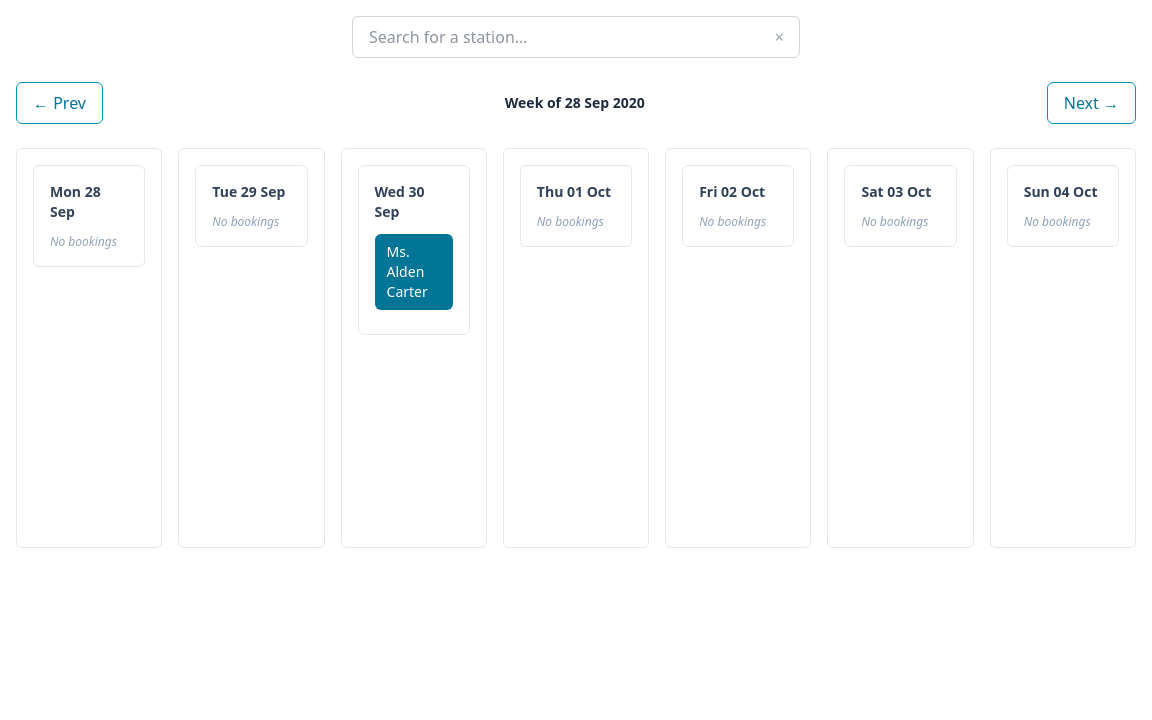
it: CalendarView.vue › navigates to next and previous weeks
This screenshot has width=1152, height=720.
Click the button "Next →". click: (1091, 103)
box: [1047, 82, 1136, 124]
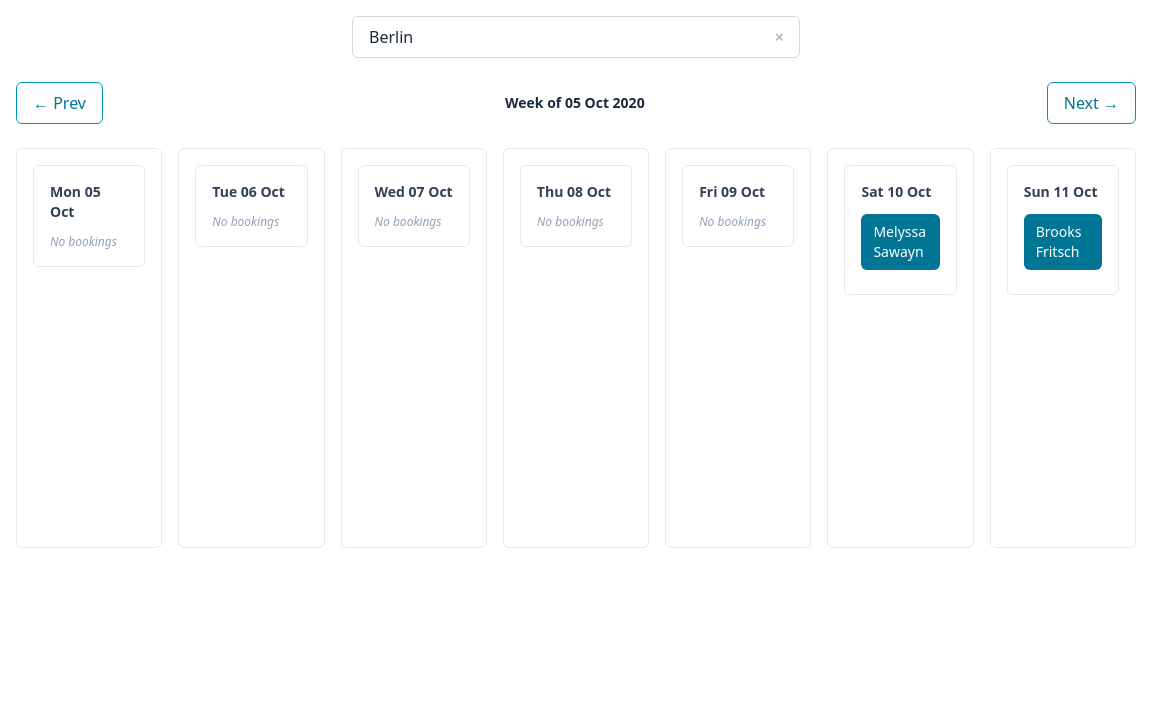
Expected: the text "Week of 05 Oct 2020" is shown, [505, 93, 645, 112]
Click the button "← Prev". click: (60, 103)
box: [16, 82, 103, 124]
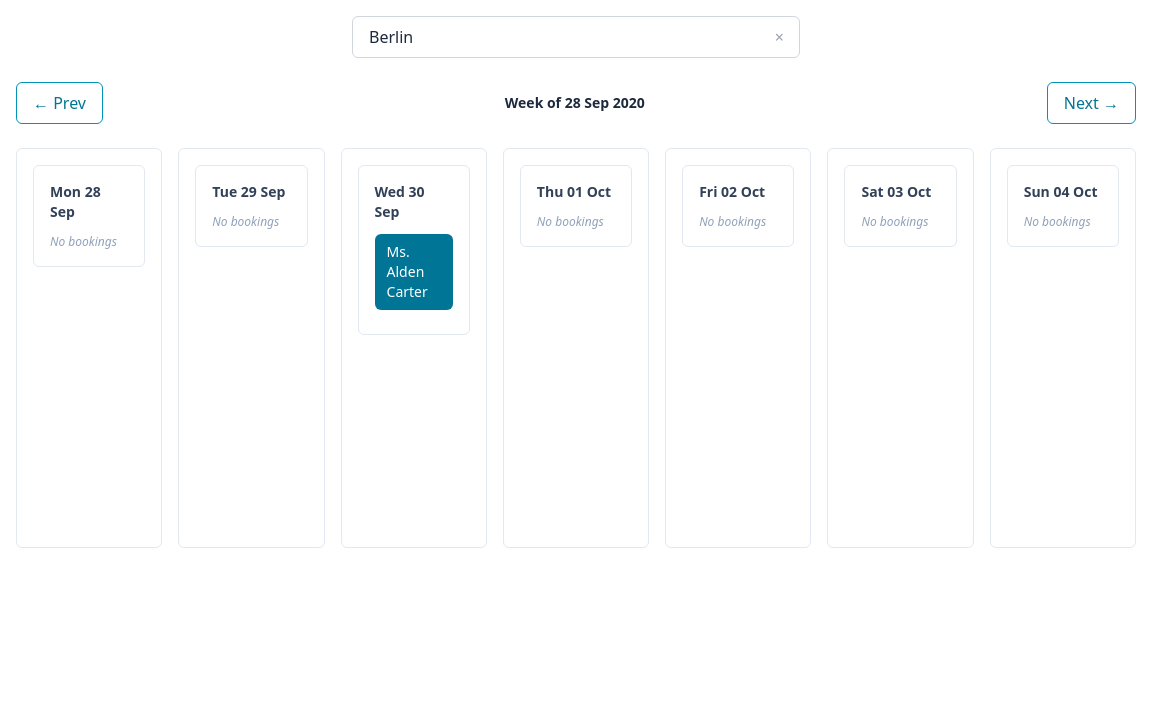
Expected: the text "Week of 28 Sep 2020" is shown, [505, 93, 645, 112]
